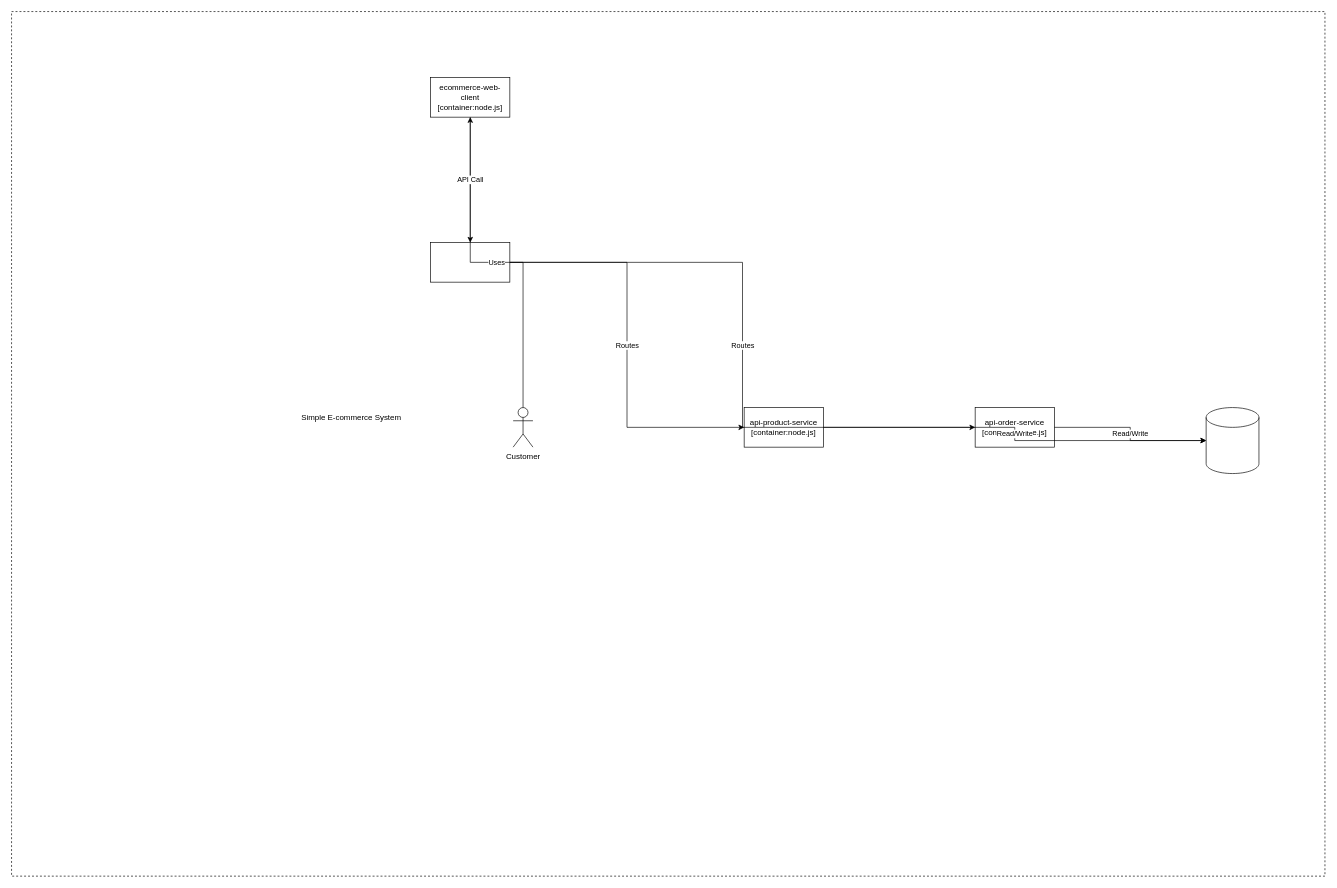
This 1337x888 diagram has some shape labels left out. Here are the shapes that lost their labels. From the top down, the centre of each, then its label:
the point at 470,262: api-ecommerce-gateway [container:go]
the point at 1232,440: E-commerce File Storage [File Storage]
